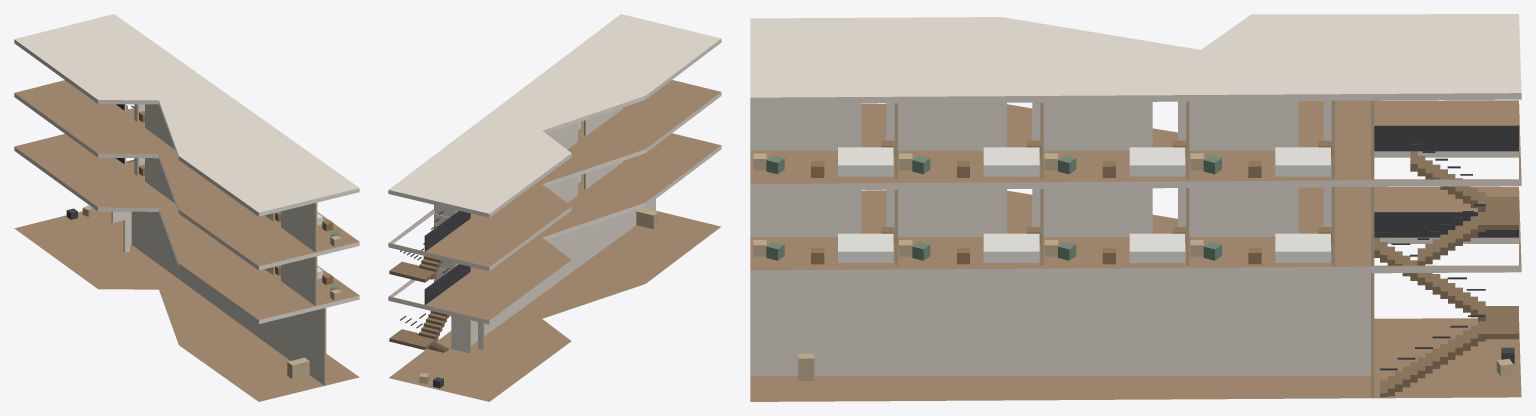
Rendered from interior.glb.
The picture shows the model from 3 angles, left to right: view 1: azimuth 30°, elevation 25°; view 2: azimuth 150°, elevation 25°; view 3: azimuth 270°, elevation 25°; orthographic projection. The views are drawn at different scales.
Parts seen in each view (by area): view 1: slabs, partitions, coarse-s0, coarse-s2, coarse-s1; view 2: slabs, partitions, stair, coarse-s0; view 3: slabs, partitions, stair, coarse-s2, coarse-s1, coarse-s0.
Part boxes in pixels (bbox=[...]): slabs: bbox=[14, 14, 359, 401]; partitions: bbox=[111, 104, 326, 385]; coarse-s0: bbox=[66, 205, 309, 379]; coarse-s2: bbox=[139, 111, 341, 246]; coarse-s1: bbox=[139, 164, 341, 300]; slabs: bbox=[388, 14, 721, 401]; partitions: bbox=[434, 107, 655, 353]; stair: bbox=[389, 210, 470, 352]; coarse-s0: bbox=[419, 208, 658, 388]; slabs: bbox=[750, 14, 1521, 401]; partitions: bbox=[750, 100, 1374, 397]; stair: bbox=[1374, 125, 1518, 397]; coarse-s2: bbox=[753, 140, 1331, 177]; coarse-s1: bbox=[753, 227, 1331, 264]; coarse-s0: bbox=[798, 347, 1514, 380].
Size of the model in its own units: 7.09 by 12.05 by 27.63.
